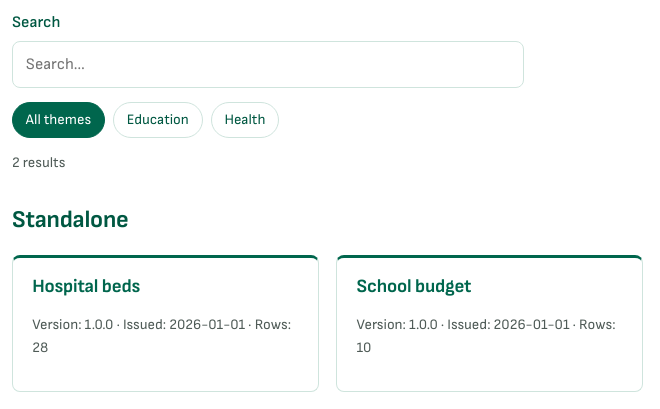
Test: DatasetSearch › shows a no-results message when nothing matches
Step 1. Type "zzz" into the search field → (268, 65), box [12, 41, 524, 88]
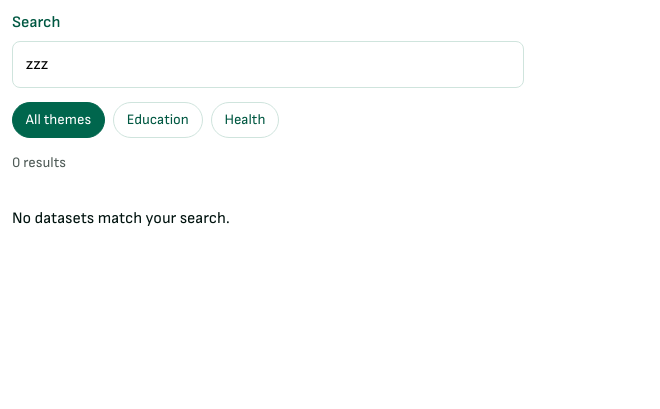
Now the text "No datasets match your search." is shown, box [12, 209, 230, 228]
